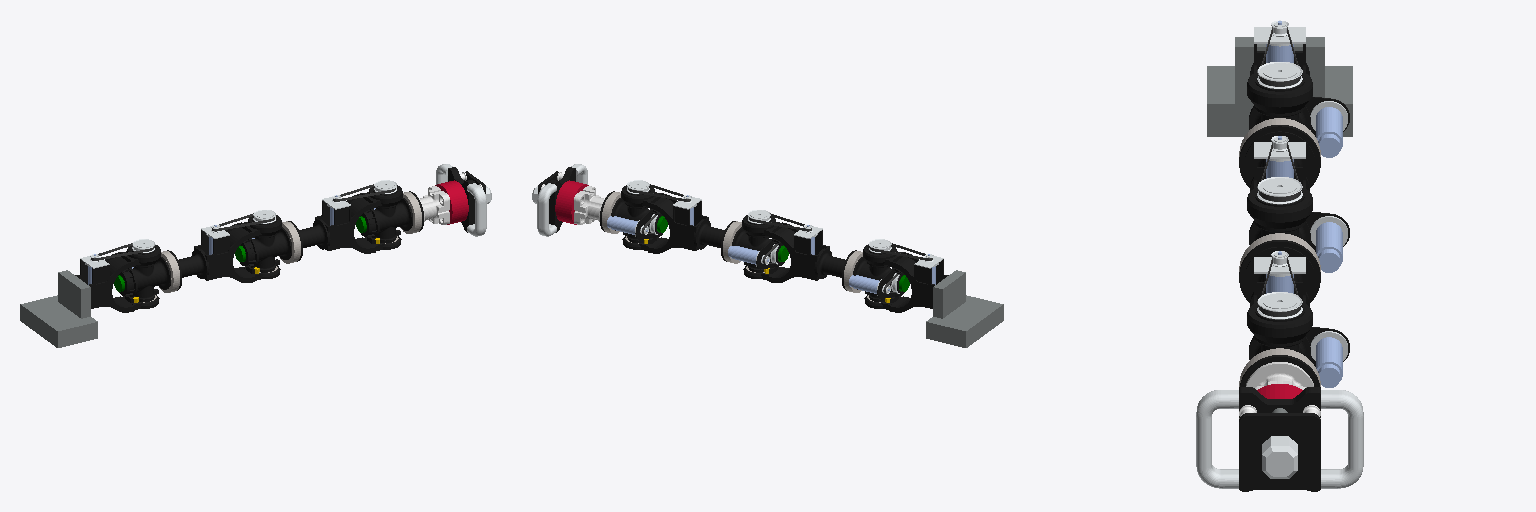
The robot description file, URDF, robot "A0B":
<?xml version="1.0"?>
<robot name="A0B"
       xmlns:xi="http://www.w3.org/2001/XInclude">
  <link name="BODY">
    <visual>
      <origin xyz="0.16 0 0" rpy="0 -0 0"/>
      <geometry>
        <mesh filename="A0B_meshes/BODY_mesh.dae" scale="1 1 1" />
      </geometry>
    </visual>
    <collision>
      <origin xyz="0.16 0 0" rpy="0 -0 0"/>
      <geometry>
        <mesh filename="A0B_meshes/BODY_mesh.dae" scale="1 1 1" />
      </geometry>
    </collision>
    <inertial>
      <mass value="7.25615" />
      <origin xyz="-0.1825 0 -0.0336" rpy="0 -0 0"/>
      <inertia ixx="0.030081" ixy="2.96916e-17" ixz="0.055333" iyy="0.285362" iyz="4.22818e-19" izz="0.278745"/>
    </inertial>
  </link>
  <gazebo reference="BODY">
    <mu1>0.9</mu1>
    <mu2>0.9</mu2>
  </gazebo>
  <link name="RARM_LINK0">
    <visual>
      <origin xyz="0 0 0" rpy="0 -0 0"/>
      <geometry>
        <mesh filename="A0B_meshes/RARM_LINK0_mesh.dae" scale="1 1 1" />
      </geometry>
    </visual>
    <collision>
      <origin xyz="0 0 0" rpy="0 -0 0"/>
      <geometry>
        <mesh filename="A0B_meshes/RARM_LINK0_mesh.dae" scale="1 1 1" />
      </geometry>
    </collision>
    <inertial>
      <mass value="1.25859" />
      <origin xyz="0.00761 0.01398 0.00204" rpy="0 -0 0"/>
      <inertia ixx="0.002068" ixy="-4.1e-05" ixz="-9e-06" iyy="0.002353" iyz="8.9e-05" izz="0.002763"/>
    </inertial>
  </link>
  <gazebo reference="RARM_LINK0">
    <mu1>0.9</mu1>
    <mu2>0.9</mu2>
  </gazebo>
  <link name="RARM_LINK1">
    <visual>
      <origin xyz="0 0 0" rpy="0 -0 0"/>
      <geometry>
        <mesh filename="A0B_meshes/RARM_LINK1_mesh.dae" scale="1 1 1" />
      </geometry>
    </visual>
    <collision>
      <origin xyz="0 0 0" rpy="0 -0 0"/>
      <geometry>
        <mesh filename="A0B_meshes/RARM_LINK1_mesh.dae" scale="1 1 1" />
      </geometry>
    </collision>
    <inertial>
      <mass value="1.66751" />
      <origin xyz="0.17253 0 0.01555" rpy="0 -0 0"/>
      <inertia ixx="0.003373" ixy="-3.56619e-17" ixz="0.006518" iyy="0.066458" iyz="2.89725e-17" izz="0.064434"/>
    </inertial>
  </link>
  <gazebo reference="RARM_LINK1">
    <mu1>0.9</mu1>
    <mu2>0.9</mu2>
  </gazebo>
  <link name="RARM_LINK2">
    <visual>
      <origin xyz="0.3 0 0" rpy="0 -0 0"/>
      <geometry>
        <mesh filename="A0B_meshes/RARM_LINK2_mesh.dae" scale="1 1 1" />
      </geometry>
    </visual>
    <collision>
      <origin xyz="0.3 0 0" rpy="0 -0 0"/>
      <geometry>
        <mesh filename="A0B_meshes/RARM_LINK2_mesh.dae" scale="1 1 1" />
      </geometry>
    </collision>
    <inertial>
      <mass value="1.25859" />
      <origin xyz="0.00761 0.01398 0.00204" rpy="0 -0 0"/>
      <inertia ixx="0.002068" ixy="-4.1e-05" ixz="-9e-06" iyy="0.002353" iyz="8.9e-05" izz="0.002763"/>
    </inertial>
  </link>
  <gazebo reference="RARM_LINK2">
    <mu1>0.9</mu1>
    <mu2>0.9</mu2>
  </gazebo>
  <link name="RARM_LINK3">
    <visual>
      <origin xyz="0 0 0" rpy="0 -0 0"/>
      <geometry>
        <mesh filename="A0B_meshes/RARM_LINK3_mesh.dae" scale="1 1 1" />
      </geometry>
    </visual>
    <collision>
      <origin xyz="0 0 0" rpy="0 -0 0"/>
      <geometry>
        <mesh filename="A0B_meshes/RARM_LINK3_mesh.dae" scale="1 1 1" />
      </geometry>
    </collision>
    <inertial>
      <mass value="1.66751" />
      <origin xyz="0.17253 0 0.01555" rpy="0 -0 0"/>
      <inertia ixx="0.003373" ixy="-3.56619e-17" ixz="0.006518" iyy="0.066458" iyz="2.89725e-17" izz="0.064434"/>
    </inertial>
  </link>
  <gazebo reference="RARM_LINK3">
    <mu1>0.9</mu1>
    <mu2>0.9</mu2>
  </gazebo>
  <link name="RARM_LINK4">
    <visual>
      <origin xyz="0.3 0 0" rpy="0 -0 0"/>
      <geometry>
        <mesh filename="A0B_meshes/RARM_LINK4_mesh.dae" scale="1 1 1" />
      </geometry>
    </visual>
    <collision>
      <origin xyz="0.3 0 0" rpy="0 -0 0"/>
      <geometry>
        <mesh filename="A0B_meshes/RARM_LINK4_mesh.dae" scale="1 1 1" />
      </geometry>
    </collision>
    <inertial>
      <mass value="1.25859" />
      <origin xyz="0.00761 0.01398 0.00204" rpy="0 -0 0"/>
      <inertia ixx="0.002068" ixy="-4.1e-05" ixz="-9e-06" iyy="0.002353" iyz="8.9e-05" izz="0.002763"/>
    </inertial>
  </link>
  <gazebo reference="RARM_LINK4">
    <mu1>0.9</mu1>
    <mu2>0.9</mu2>
  </gazebo>
  <link name="RARM_LINK5">
    <visual>
      <origin xyz="0 0 0" rpy="0 -0 0"/>
      <geometry>
        <mesh filename="A0B_meshes/RARM_LINK5_mesh.dae" scale="1 1 1" />
      </geometry>
    </visual>
    <collision>
      <origin xyz="0 0 0" rpy="0 -0 0"/>
      <geometry>
        <mesh filename="A0B_meshes/RARM_LINK5_mesh.dae" scale="1 1 1" />
      </geometry>
    </collision>
    <inertial>
      <mass value="2.83285" />
      <origin xyz="0.15593 4e-05 2e-05" rpy="0 -0 0"/>
      <inertia ixx="0.005208" ixy="1.6e-05" ixz="7e-06" iyy="0.078777" iyz="1e-06" izz="0.080014"/>
    </inertial>
  </link>
  <gazebo reference="RARM_LINK5">
    <mu1>0.9</mu1>
    <mu2>0.9</mu2>
  </gazebo>
  <joint name="RARM_JOINT0" type="revolute">
    <parent link="BODY"/>
    <child  link="RARM_LINK0"/>
    <origin xyz="0 0 0" rpy="0 -0 0 "/>
    <axis   xyz="0 0 1"/>
    <limit lower="-2.35" upper="2.35" effort="283.392" velocity="4" />
    <dynamics damping="0.2" friction="0" />
  </joint>
  <transmission type="pr2_mechanism_model/SimpleTransmission" name="RARM_JOINT0_trans" >
    <actuator name="RARM_JOINT0_motor" />
    <joint name="RARM_JOINT0" />
    <mechanicalReduction>1</mechanicalReduction>
  </transmission>
  <gazebo reference="RARM_JOINT0">
    <cfmDamping>0.4</cfmDamping>
  </gazebo>
  <joint name="RARM_JOINT1" type="revolute">
    <parent link="RARM_LINK0"/>
    <child  link="RARM_LINK1"/>
    <origin xyz="0 0 0" rpy="0 -0 0 "/>
    <axis   xyz="1 0 0"/>
    <limit lower="-3.14" upper="3.14" effort="283.392" velocity="4" />
    <dynamics damping="0.2" friction="0" />
  </joint>
  <transmission type="pr2_mechanism_model/SimpleTransmission" name="RARM_JOINT1_trans" >
    <actuator name="RARM_JOINT1_motor" />
    <joint name="RARM_JOINT1" />
    <mechanicalReduction>1</mechanicalReduction>
  </transmission>
  <gazebo reference="RARM_JOINT1">
    <cfmDamping>0.4</cfmDamping>
  </gazebo>
  <joint name="RARM_JOINT2" type="revolute">
    <parent link="RARM_LINK1"/>
    <child  link="RARM_LINK2"/>
    <origin xyz="0.3 0 0" rpy="0 -0 0 "/>
    <axis   xyz="0 0 1"/>
    <limit lower="-2.35" upper="2.35" effort="283.392" velocity="4" />
    <dynamics damping="0.2" friction="0" />
  </joint>
  <transmission type="pr2_mechanism_model/SimpleTransmission" name="RARM_JOINT2_trans" >
    <actuator name="RARM_JOINT2_motor" />
    <joint name="RARM_JOINT2" />
    <mechanicalReduction>1</mechanicalReduction>
  </transmission>
  <gazebo reference="RARM_JOINT2">
    <cfmDamping>0.4</cfmDamping>
  </gazebo>
  <joint name="RARM_JOINT3" type="revolute">
    <parent link="RARM_LINK2"/>
    <child  link="RARM_LINK3"/>
    <origin xyz="0 0 0" rpy="0 -0 0 "/>
    <axis   xyz="1 0 0"/>
    <limit lower="-3.14" upper="3.14" effort="283.392" velocity="4" />
    <dynamics damping="0.2" friction="0" />
  </joint>
  <transmission type="pr2_mechanism_model/SimpleTransmission" name="RARM_JOINT3_trans" >
    <actuator name="RARM_JOINT3_motor" />
    <joint name="RARM_JOINT3" />
    <mechanicalReduction>1</mechanicalReduction>
  </transmission>
  <gazebo reference="RARM_JOINT3">
    <cfmDamping>0.4</cfmDamping>
  </gazebo>
  <joint name="RARM_JOINT4" type="revolute">
    <parent link="RARM_LINK3"/>
    <child  link="RARM_LINK4"/>
    <origin xyz="0.3 0 0" rpy="0 -0 0 "/>
    <axis   xyz="0 0 1"/>
    <limit lower="-2.35" upper="2.35" effort="283.392" velocity="4" />
    <dynamics damping="0.2" friction="0" />
  </joint>
  <transmission type="pr2_mechanism_model/SimpleTransmission" name="RARM_JOINT4_trans" >
    <actuator name="RARM_JOINT4_motor" />
    <joint name="RARM_JOINT4" />
    <mechanicalReduction>1</mechanicalReduction>
  </transmission>
  <gazebo reference="RARM_JOINT4">
    <cfmDamping>0.4</cfmDamping>
  </gazebo>
  <joint name="RARM_JOINT5" type="revolute">
    <parent link="RARM_LINK4"/>
    <child  link="RARM_LINK5"/>
    <origin xyz="0 0 0" rpy="0 -0 0 "/>
    <axis   xyz="1 0 0"/>
    <limit lower="-3.14" upper="3.14" effort="283.392" velocity="4" />
    <dynamics damping="0.2" friction="0" />
  </joint>
  <transmission type="pr2_mechanism_model/SimpleTransmission" name="RARM_JOINT5_trans" >
    <actuator name="RARM_JOINT5_motor" />
    <joint name="RARM_JOINT5" />
    <mechanicalReduction>1</mechanicalReduction>
  </transmission>
  <gazebo reference="RARM_JOINT5">
    <cfmDamping>0.4</cfmDamping>
  </gazebo>
</robot>

--- What the picture shows (computed from the rendered views, not written in the file) ---
The picture shows the robot from 3 angles, left to right: view 1: azimuth 30°, elevation 25°; view 2: azimuth 150°, elevation 25°; view 3: azimuth 270°, elevation 25°; orthographic projection.
Model A0B with 7 links and 6 joints (6 revolute), rooted at BODY, posed every joint at zero.
Visible links, largest first — view 1: BODY, RARM_LINK3, RARM_LINK1, RARM_LINK5, RARM_LINK4, RARM_LINK2, RARM_LINK0; view 2: BODY, RARM_LINK3, RARM_LINK1, RARM_LINK5, RARM_LINK4, RARM_LINK2, RARM_LINK0; view 3: RARM_LINK5, BODY, RARM_LINK1, RARM_LINK3, RARM_LINK0, RARM_LINK2, RARM_LINK4.
Boxes of the visible links, x1,y1,x2,y2 form: BODY: (20, 239, 160, 347); RARM_LINK3: (279, 180, 402, 263); RARM_LINK1: (159, 210, 281, 292); RARM_LINK5: (400, 164, 491, 236); RARM_LINK4: (356, 198, 412, 243); RARM_LINK2: (235, 227, 291, 272); RARM_LINK0: (114, 257, 170, 302); BODY: (863, 239, 1003, 347); RARM_LINK3: (621, 180, 741, 263); RARM_LINK1: (742, 210, 862, 292); RARM_LINK5: (532, 164, 620, 236); RARM_LINK4: (607, 198, 667, 243); RARM_LINK2: (728, 227, 788, 272); RARM_LINK0: (849, 257, 909, 302); RARM_LINK5: (1196, 348, 1363, 491); BODY: (1207, 20, 1352, 136); RARM_LINK1: (1239, 118, 1320, 232); RARM_LINK3: (1239, 233, 1320, 347); RARM_LINK0: (1249, 96, 1349, 157); RARM_LINK2: (1249, 212, 1349, 272); RARM_LINK4: (1249, 327, 1349, 387).
Bounding box of the posed robot: 1.11 × 0.184 × 0.1575 m (x, y, z).
7 mesh visuals loaded from 7 distinct referenced files (7 Collada DAE).